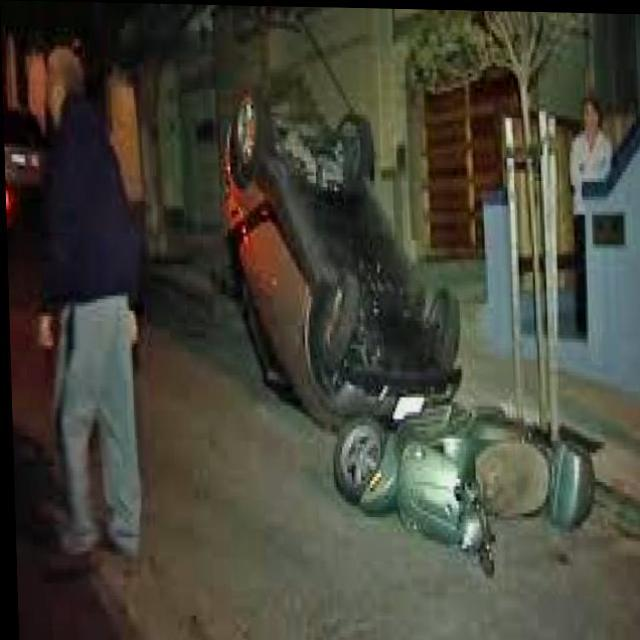multiple_accident: (193, 97, 616, 553)
